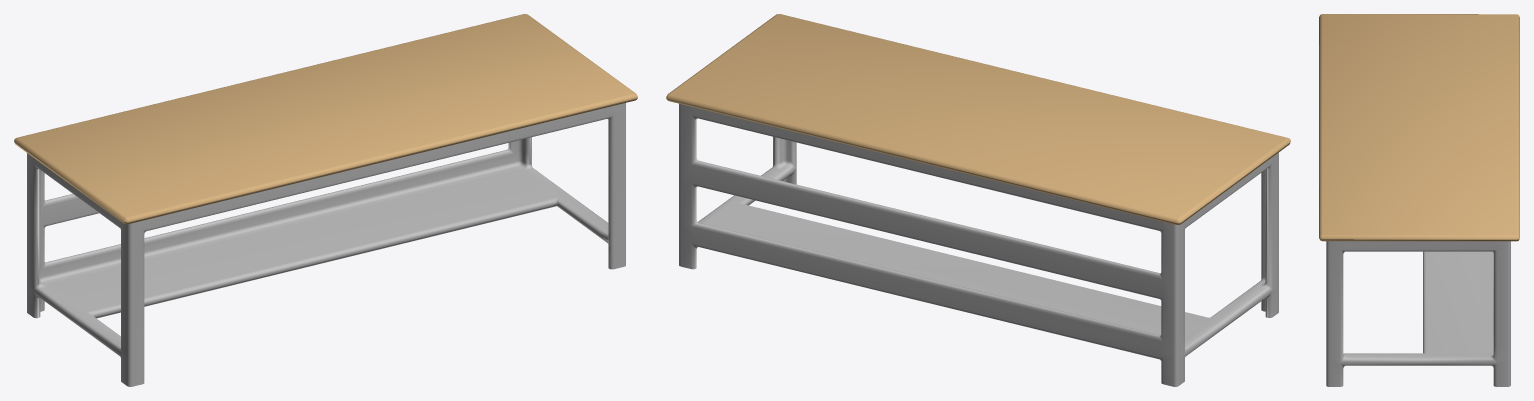
The model's file is Prop_Table.fbx.
3 views of the same model, side by side, from view 1: azimuth 30°, elevation 25°; view 2: azimuth 150°, elevation 25°; view 3: azimuth 270°, elevation 25° (orthographic). The views are drawn at different scales.
Visible parts, largest first — view 1: Table_WoodTop, Table_MetalFrame; view 2: Table_WoodTop, Table_MetalFrame; view 3: Table_WoodTop, Table_MetalFrame.
Boxes of the visible parts, x1,y1,x2,y2 form: Table_WoodTop: (14, 14, 637, 224); Table_MetalFrame: (27, 103, 625, 386); Table_WoodTop: (666, 14, 1290, 224); Table_MetalFrame: (679, 103, 1278, 386); Table_WoodTop: (1319, 14, 1519, 241); Table_MetalFrame: (1326, 241, 1510, 386).
Size of the model in its own units: 300 by 96.43 by 114.
